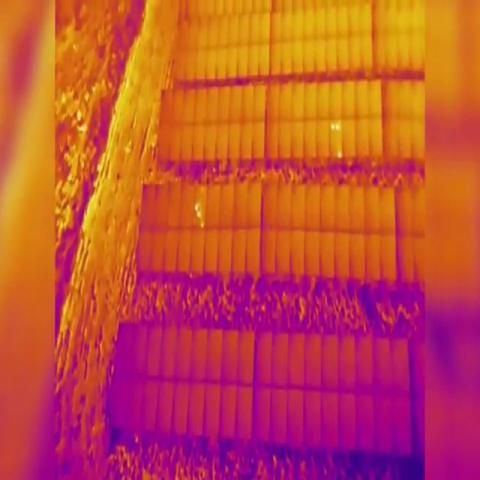fault: (333, 119, 340, 131), (336, 147, 343, 158), (200, 217, 206, 229), (329, 120, 335, 131), (194, 199, 199, 211), (197, 207, 201, 217)
